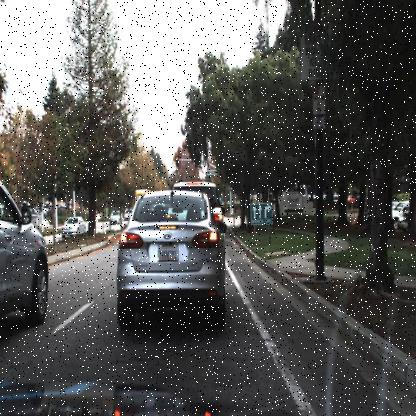car: (116, 188, 226, 330), (0, 174, 51, 335), (388, 198, 407, 228), (207, 182, 220, 224), (109, 209, 122, 227)
trafficLight: (174, 156, 180, 167)
